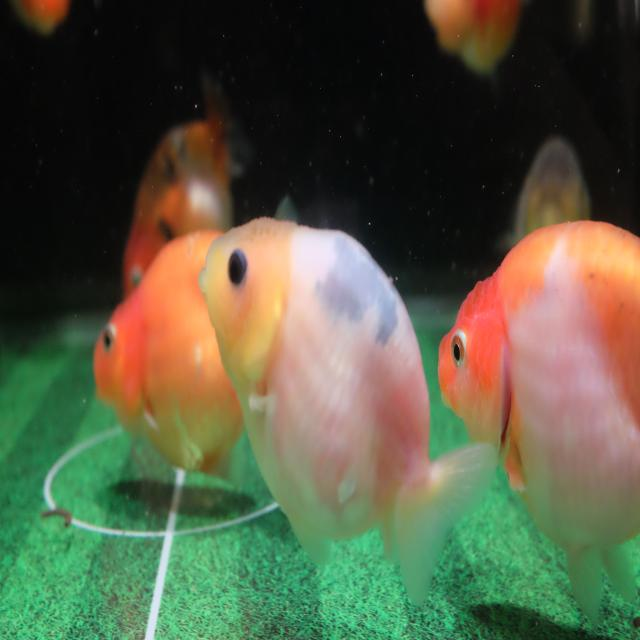Goldfish: (197, 213, 498, 612), (436, 217, 640, 630), (91, 227, 248, 490)
